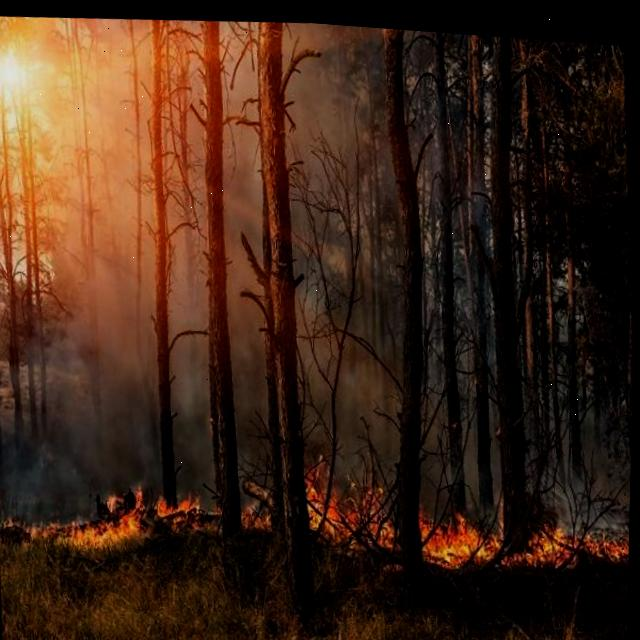fire: (10, 464, 632, 566)
smoke: (69, 39, 393, 472)
